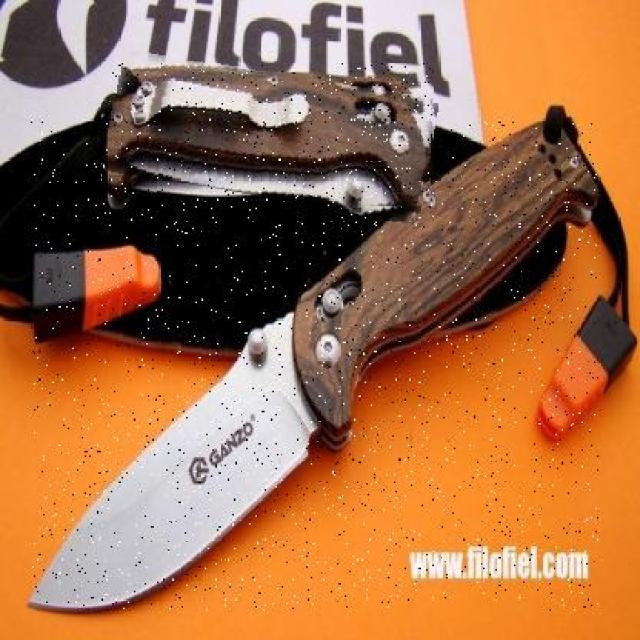knife: (31, 120, 598, 611), (108, 63, 434, 211)
